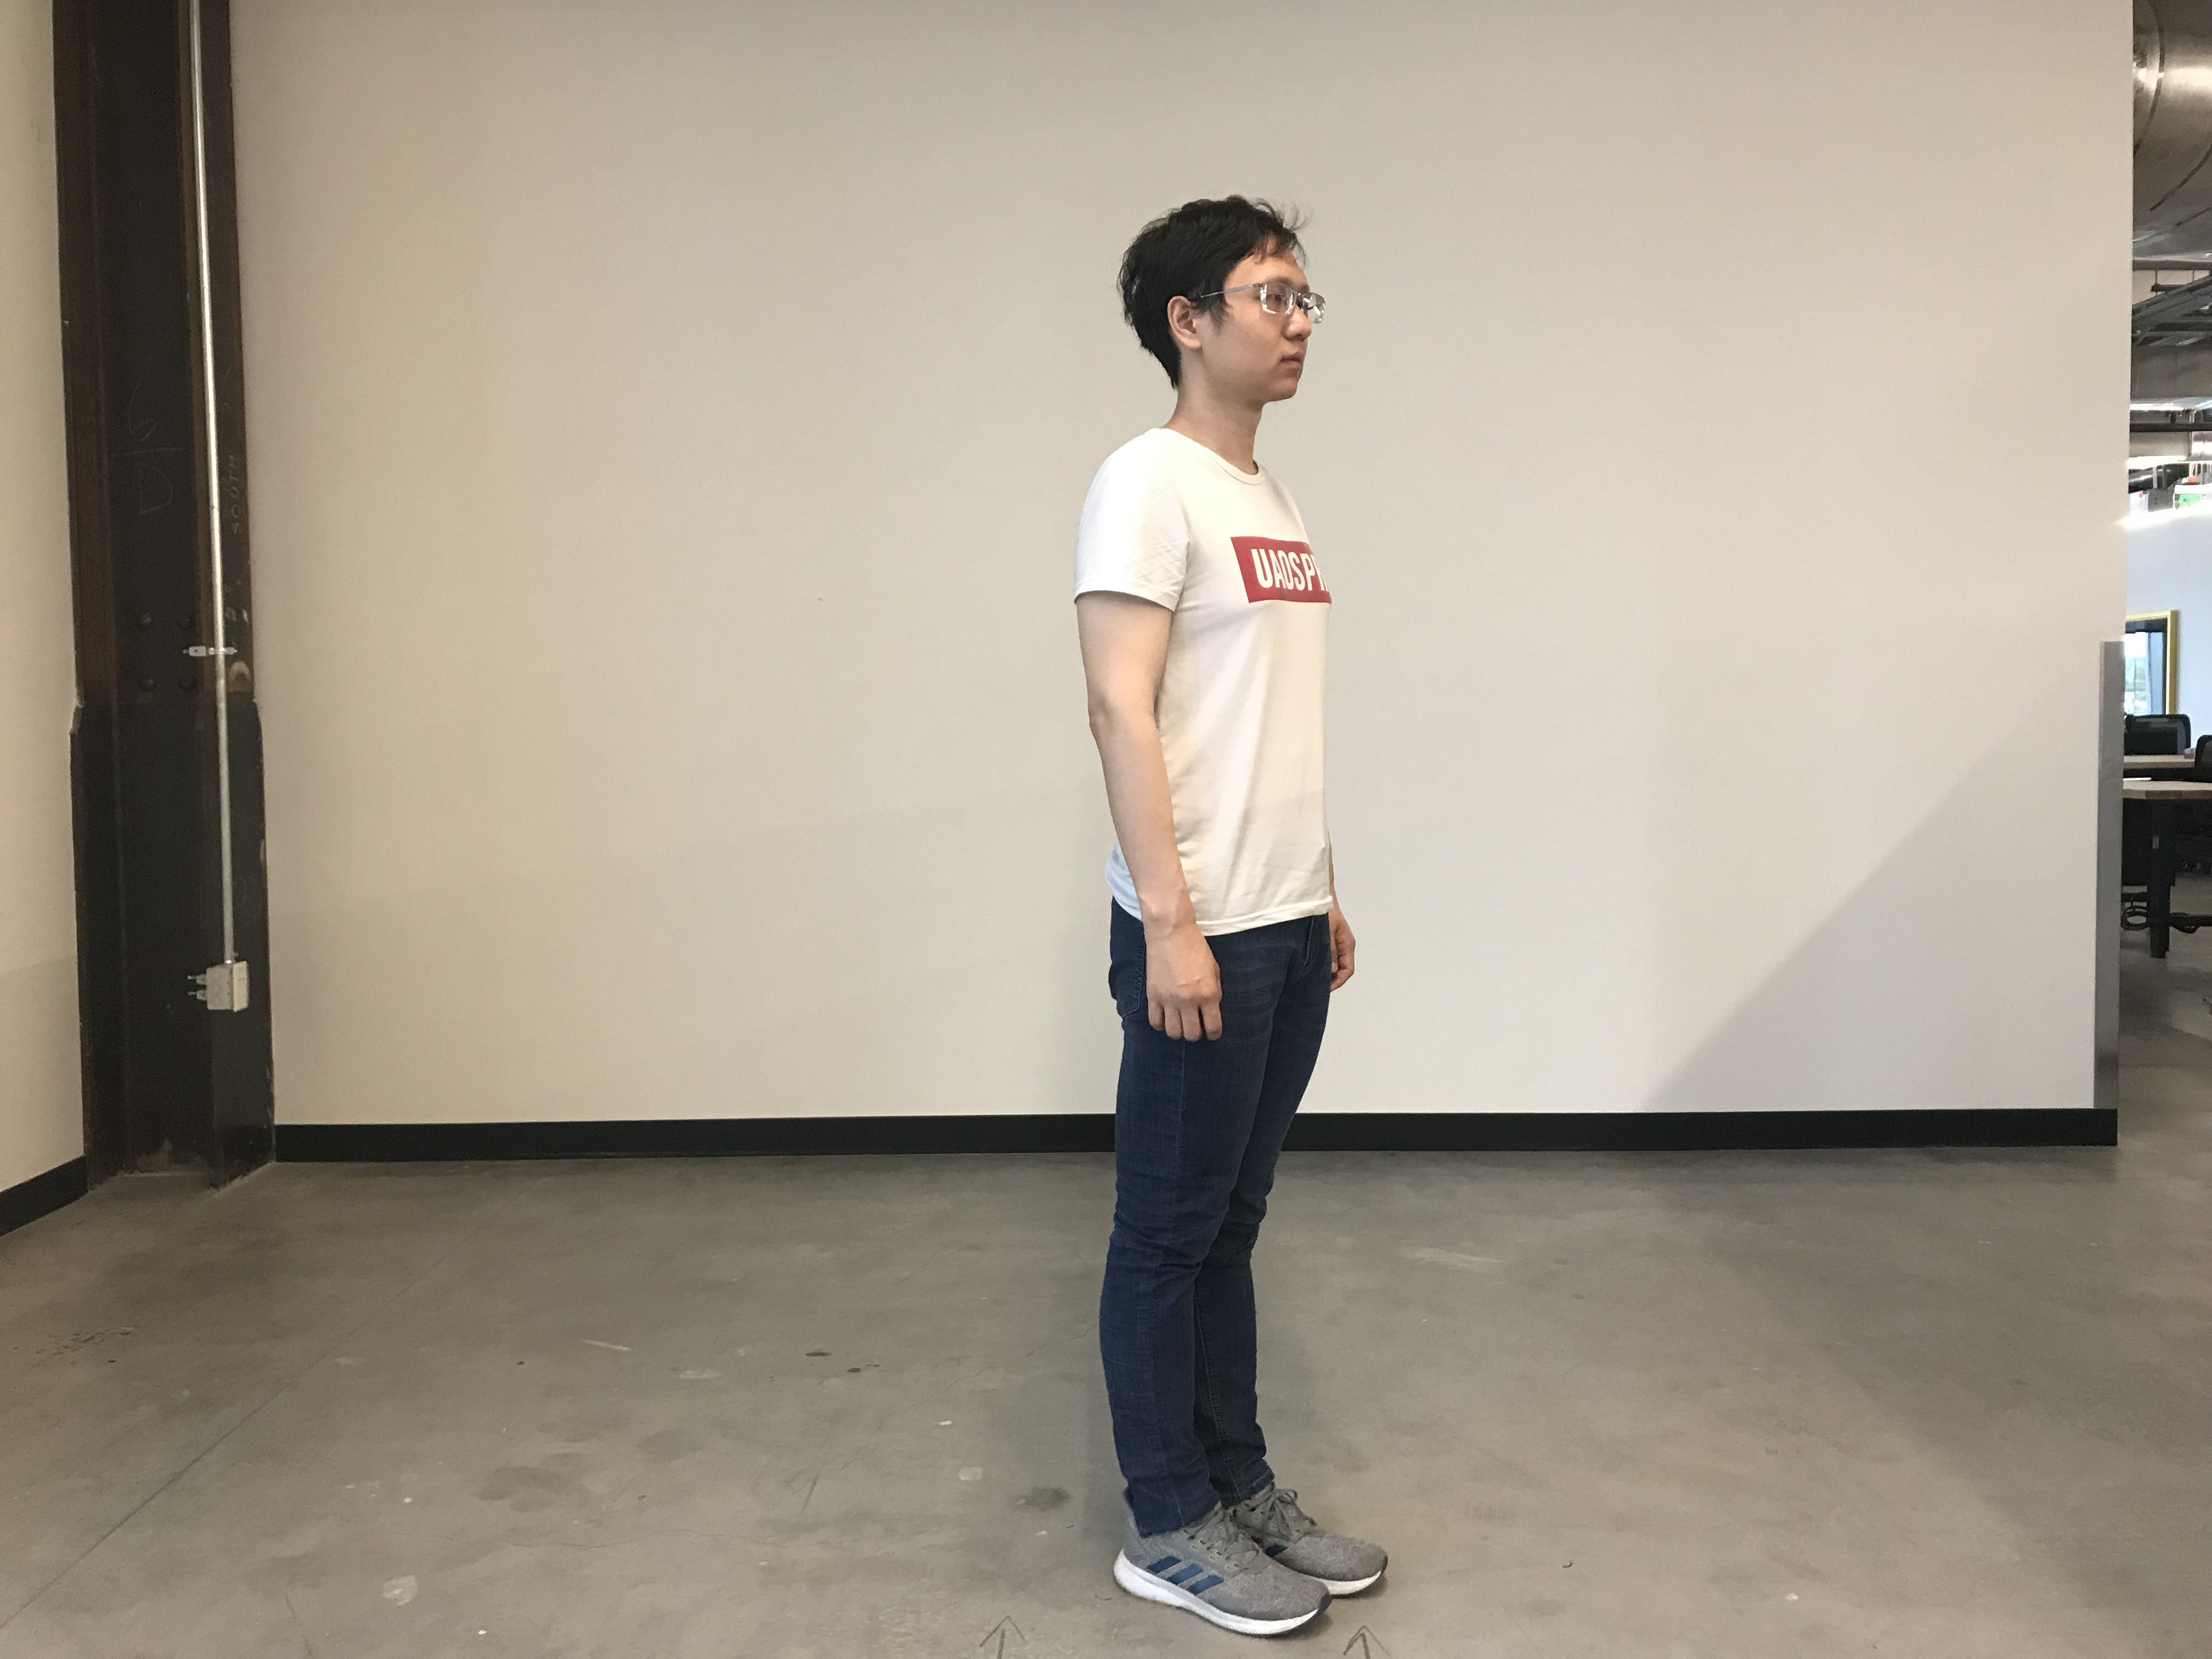attack_zone: (1176, 516, 1312, 897), (1993, 94, 2017, 115)
